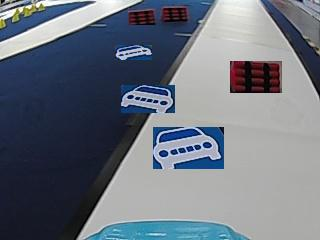bomb: (161, 5, 187, 20)
